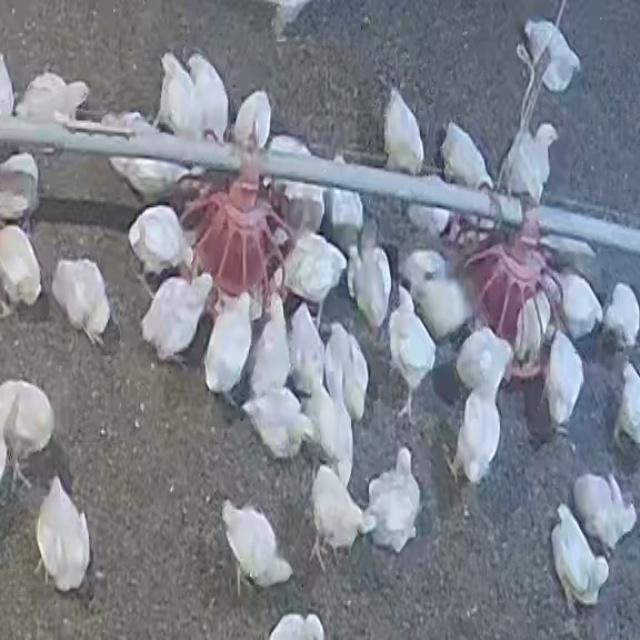chicken: (31, 478, 95, 596), (546, 503, 608, 622), (305, 462, 376, 565), (213, 498, 291, 588), (447, 373, 509, 483), (144, 269, 215, 362), (104, 111, 182, 192), (198, 285, 256, 390), (15, 68, 94, 143), (385, 290, 436, 403), (365, 446, 420, 547), (120, 200, 197, 271), (269, 236, 350, 301), (0, 379, 56, 473), (542, 329, 590, 437), (304, 385, 356, 484), (572, 464, 632, 548), (378, 87, 433, 177), (242, 390, 312, 459), (54, 256, 108, 345), (435, 122, 495, 202), (342, 221, 388, 324), (522, 15, 578, 95), (500, 121, 559, 196), (192, 48, 232, 158), (403, 277, 483, 330), (151, 50, 197, 141), (326, 318, 371, 411), (264, 181, 324, 247), (246, 297, 288, 391), (0, 217, 39, 317), (552, 268, 601, 339), (603, 358, 640, 452), (449, 330, 517, 381), (601, 281, 640, 361), (0, 152, 45, 221), (508, 292, 553, 357), (233, 89, 280, 148), (326, 159, 358, 245), (294, 306, 322, 385)
